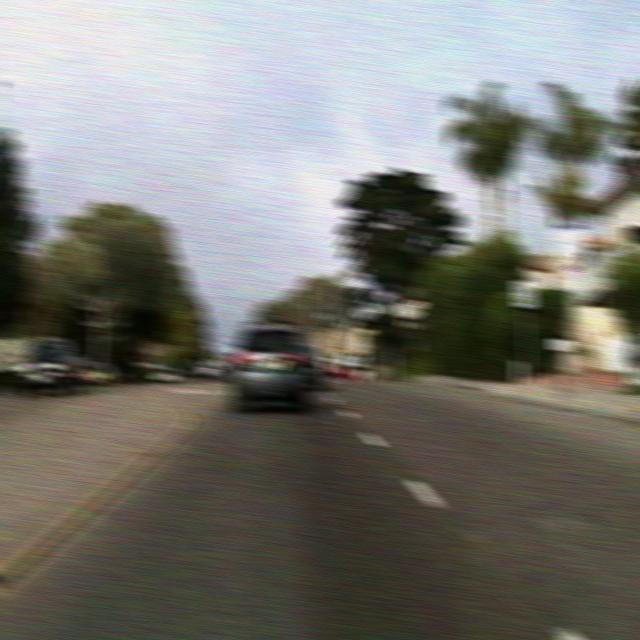speedLimit40: (512, 278, 536, 306)
